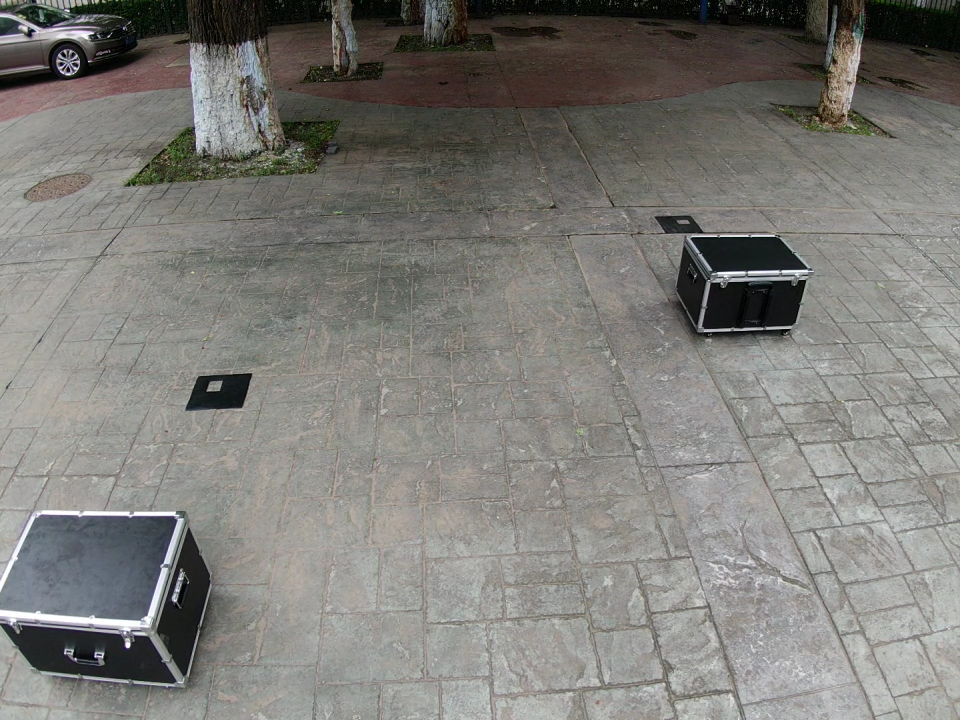box: (1, 511, 213, 688), (676, 235, 814, 333)
qrcode: (186, 373, 253, 410), (655, 216, 703, 232)
